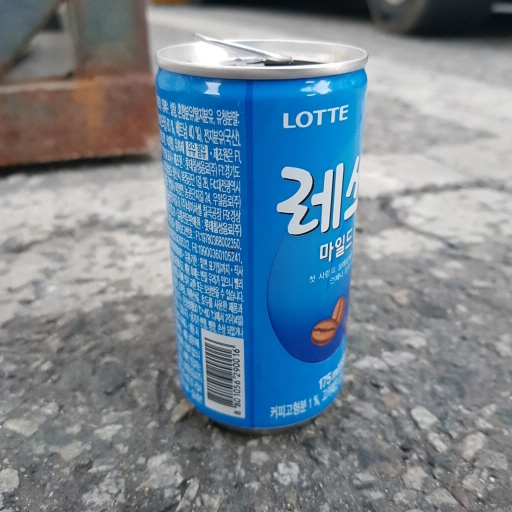Metal_0: (154, 30, 372, 438)
